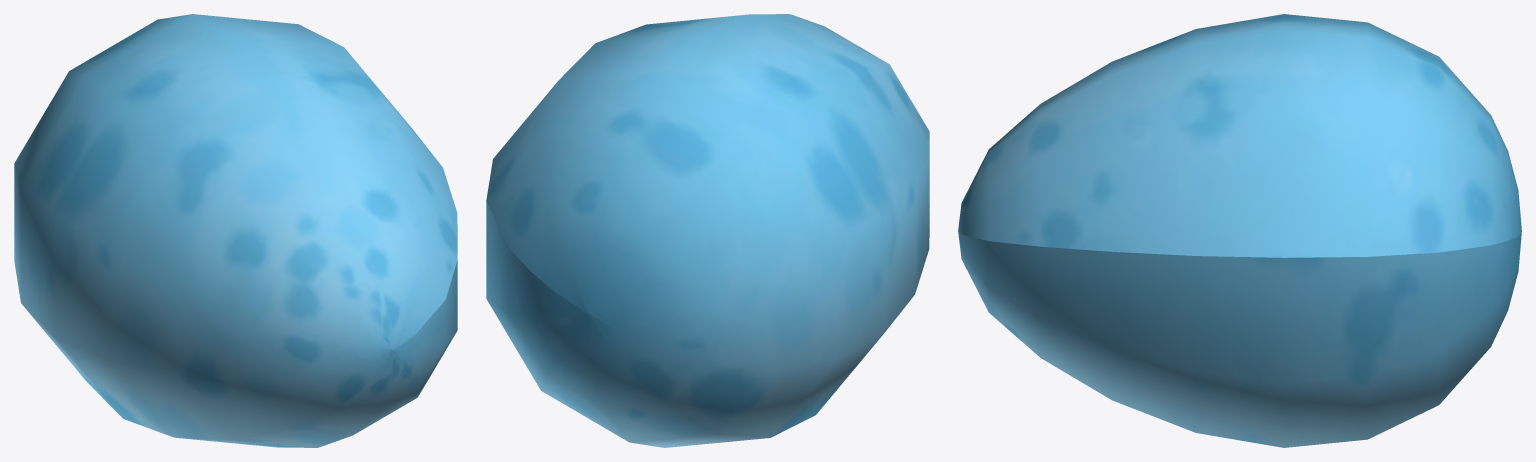
Rendered from huevo_5.fbx.
3 views of the same model, side by side, from view 1: azimuth 30°, elevation 25°; view 2: azimuth 150°, elevation 25°; view 3: azimuth 270°, elevation 25° (orthographic).
Parts seen in each view (by area): view 1: s4studio_mesh_0; view 2: s4studio_mesh_0; view 3: s4studio_mesh_0.
Boxes of the visible parts, <box> form: s4studio_mesh_0: <box>14,14,457,447</box>; s4studio_mesh_0: <box>486,14,929,447</box>; s4studio_mesh_0: <box>958,14,1521,447</box>.
Bounding box in the file's own units: 5.59 × 5.88 × 7.5.
Materials: 1 (1 with a texture image).
